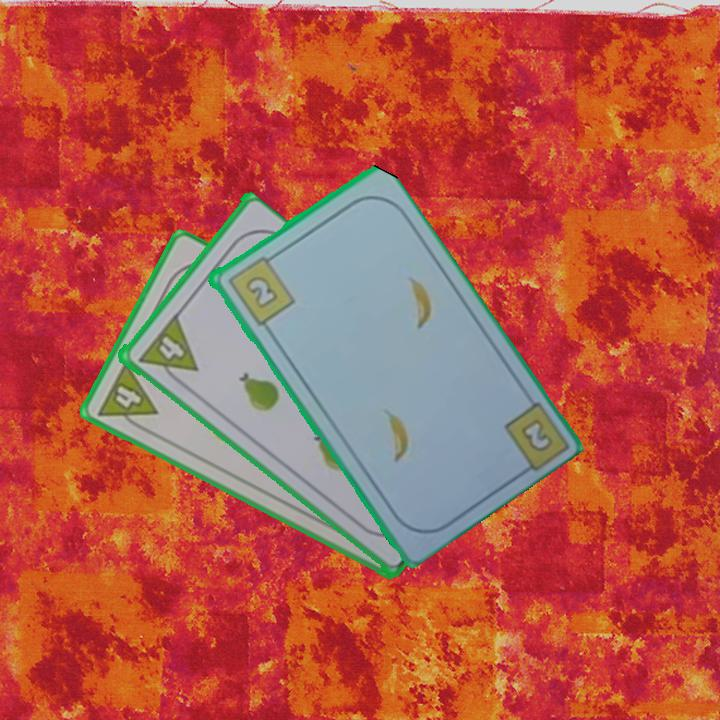2b: (223, 250, 297, 328), (516, 415, 556, 456)
4p: (93, 358, 160, 436), (150, 314, 200, 371)
